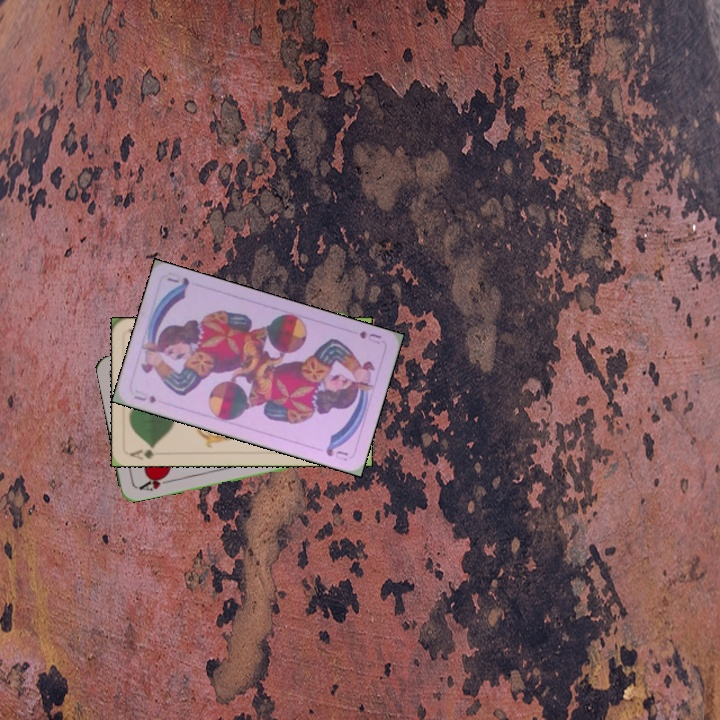GA: (126, 442, 157, 461)
HA: (135, 471, 174, 493)
SU: (355, 327, 384, 347), (130, 386, 158, 406)
